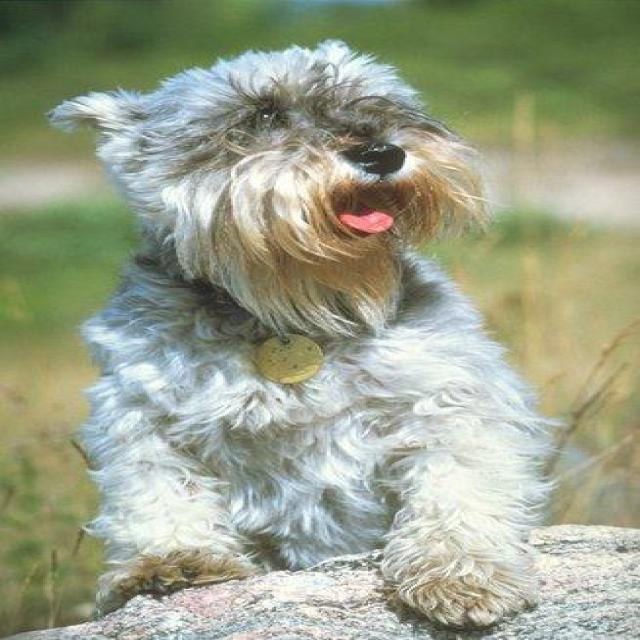standard_schnauzer: (41, 36, 564, 630)
